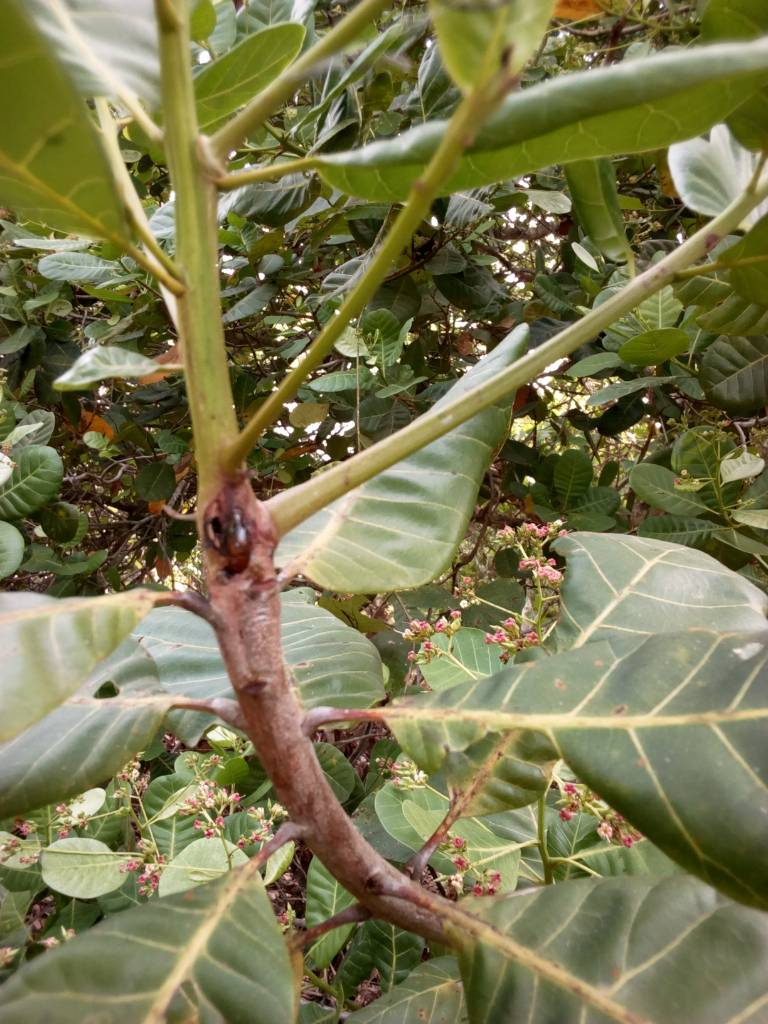Gommose: (200, 472, 279, 594)
